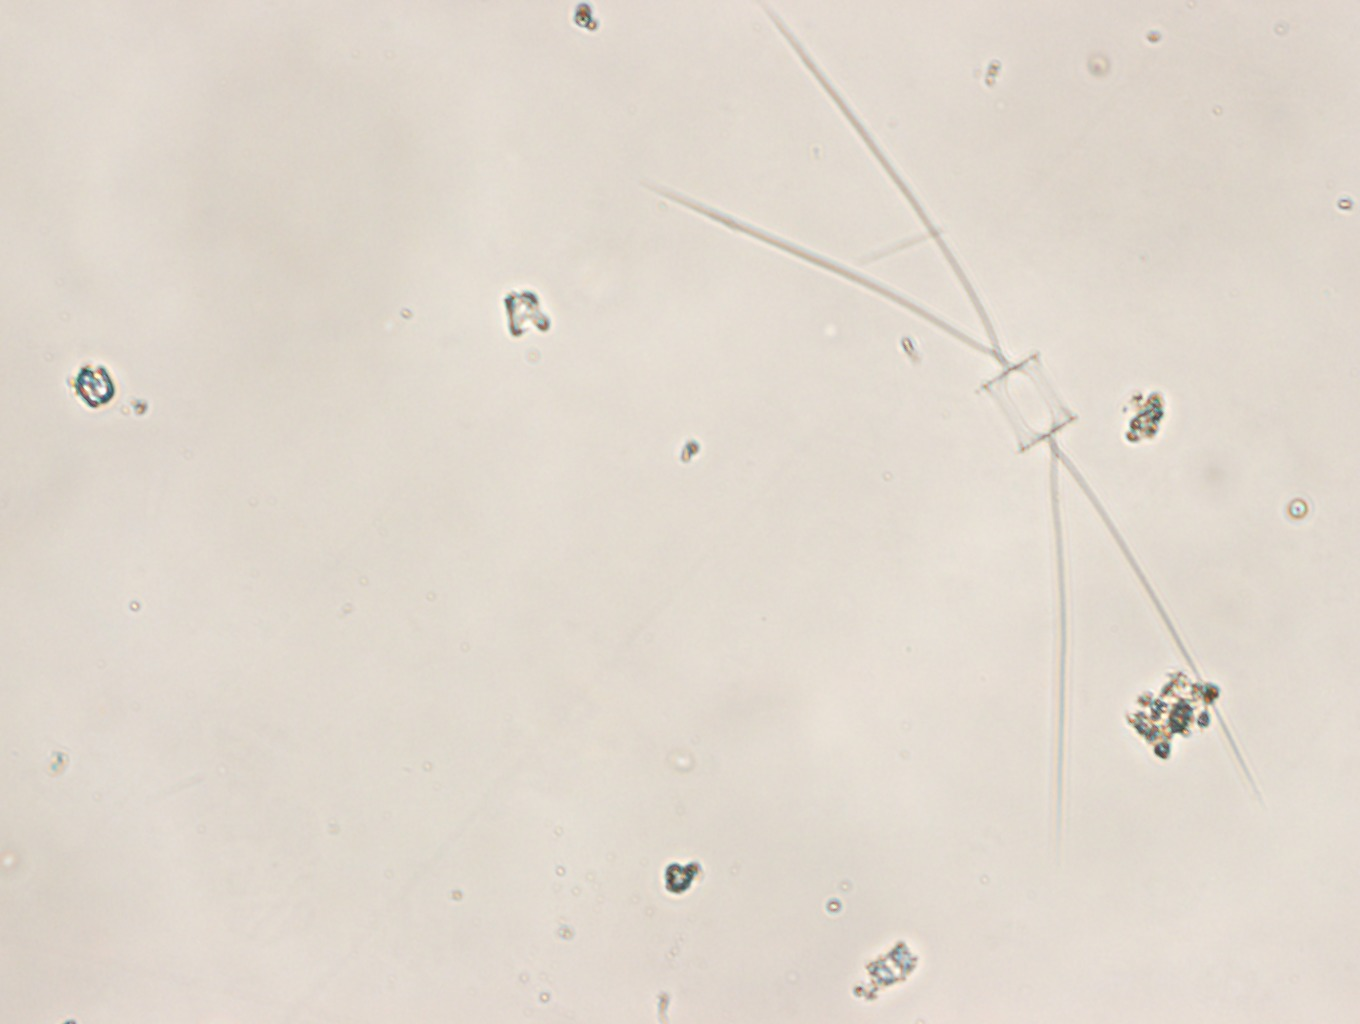chaetoceros: (614, 5, 1268, 841)
